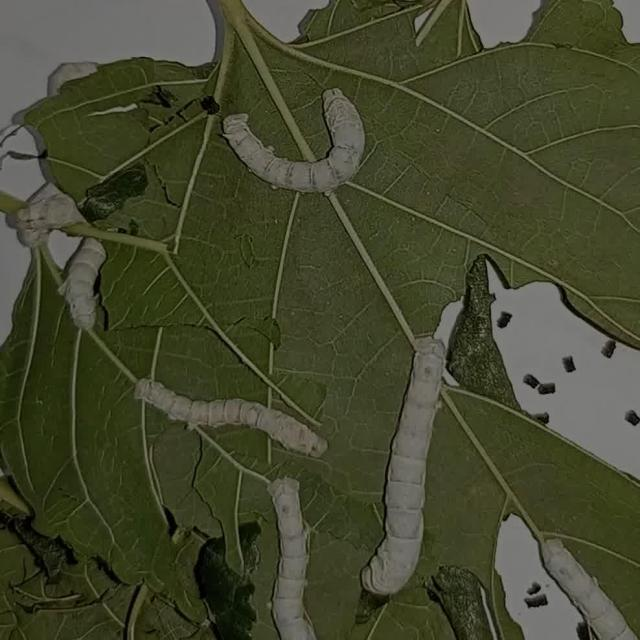Healthy: (355, 314, 459, 606), (0, 152, 143, 336), (208, 78, 404, 205), (112, 366, 349, 464), (244, 471, 339, 640), (523, 515, 640, 640)
